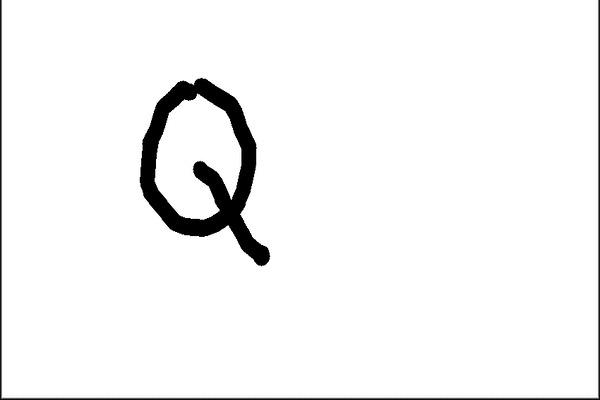Q: (132, 68, 277, 278)
